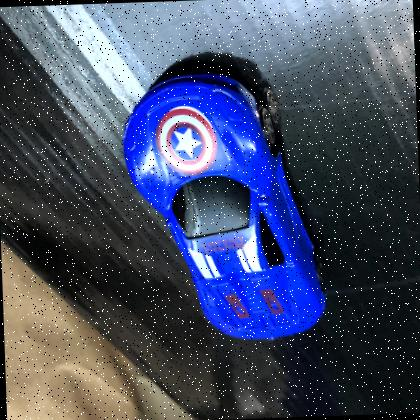Car: (122, 72, 327, 338)
